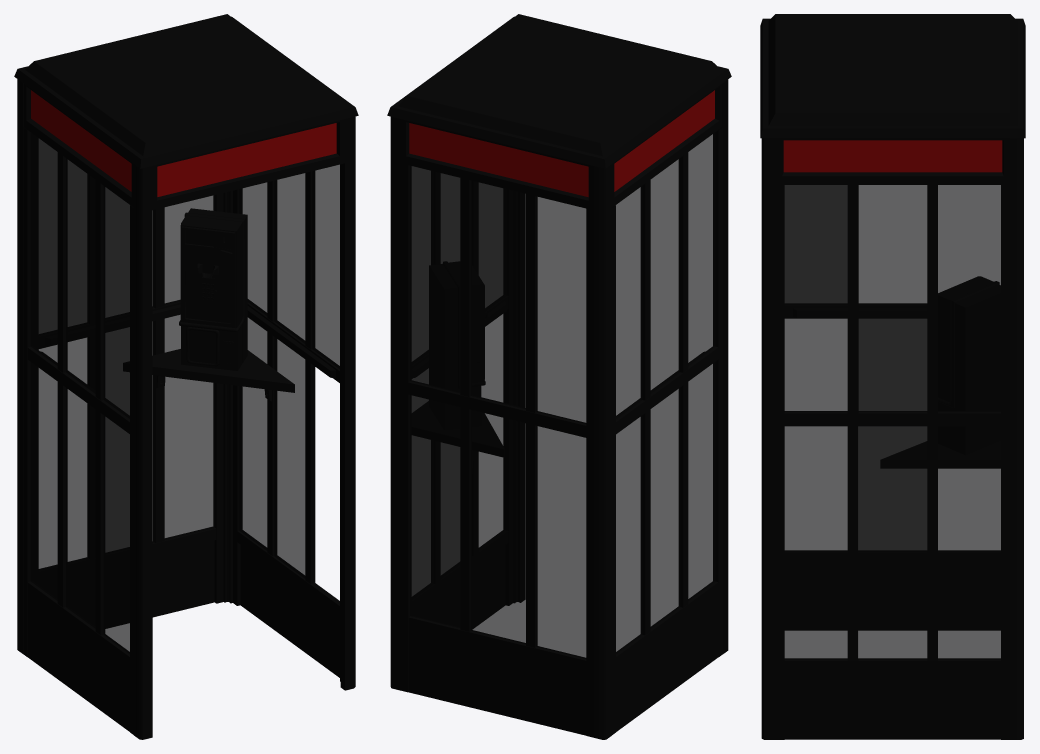
Rendered from SM_PayPhone.fbx.
3 views of the same model, side by side, from view 1: azimuth 30°, elevation 25°; view 2: azimuth 150°, elevation 25°; view 3: azimuth 270°, elevation 25° (orthographic). The views are drawn at different scales.
Visible parts, largest first — view 1: Phonebooth_Box; view 2: Phonebooth_Box; view 3: Phonebooth_Box.
Boxes of the visible parts, x1=… form: Phonebooth_Box: x1=14, y1=14, x2=358, y2=739; Phonebooth_Box: x1=387, y1=14, x2=731, y2=739; Phonebooth_Box: x1=760, y1=14, x2=1025, y2=739.
Size of the model in its own units: 2841 by 7333 by 2841.
